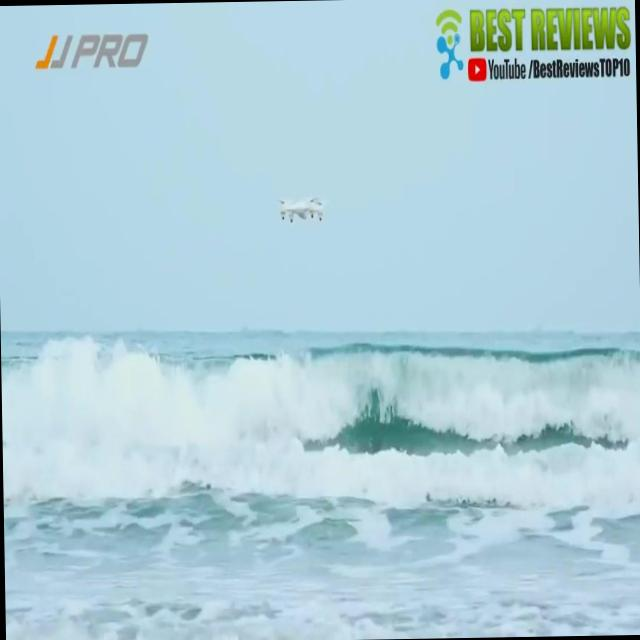drone: (274, 190, 328, 228)
